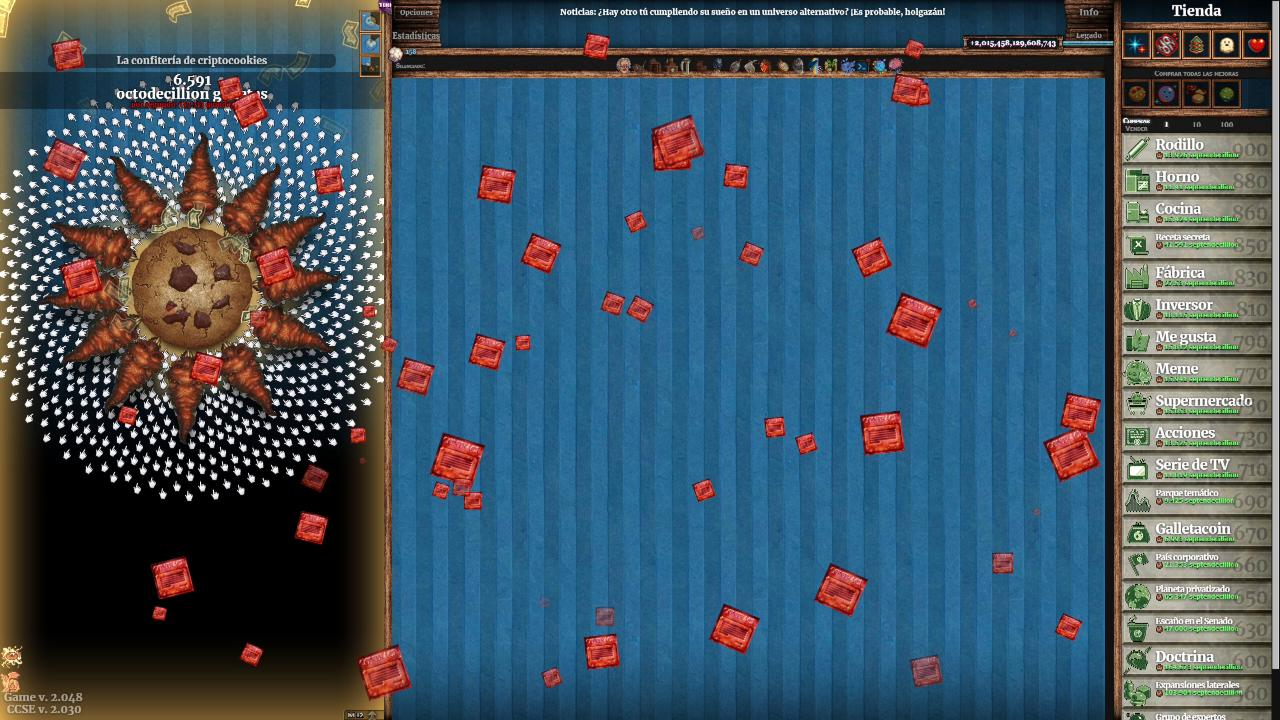RedCartridge: (1042, 425, 1102, 484), (886, 291, 944, 351), (356, 643, 413, 703), (428, 431, 488, 488), (813, 562, 871, 618), (707, 602, 762, 656), (653, 114, 707, 168), (40, 136, 90, 185), (859, 408, 906, 458), (1058, 390, 1103, 435), (152, 556, 195, 602), (59, 256, 103, 300), (851, 235, 894, 280), (255, 245, 298, 288), (520, 233, 563, 276), (651, 129, 692, 173), (476, 164, 517, 206), (396, 357, 437, 397), (582, 632, 622, 672), (468, 332, 507, 373), (231, 90, 270, 130), (50, 35, 87, 74), (189, 350, 226, 388), (908, 651, 944, 690), (293, 510, 331, 546), (890, 72, 925, 109), (313, 164, 345, 196), (300, 461, 330, 495), (720, 161, 753, 191), (1054, 612, 1084, 644), (582, 32, 612, 62), (598, 288, 627, 318), (737, 240, 766, 269), (626, 294, 655, 323), (238, 640, 266, 668), (218, 76, 245, 103), (907, 81, 933, 109), (692, 476, 717, 505), (794, 432, 820, 457), (624, 209, 649, 235), (763, 414, 787, 440), (991, 551, 1015, 576), (540, 666, 564, 690), (116, 404, 139, 427), (904, 36, 926, 60), (463, 490, 485, 511), (452, 477, 474, 498), (595, 606, 616, 628), (432, 481, 450, 501), (150, 604, 169, 622), (381, 335, 399, 354), (350, 427, 368, 445), (516, 333, 532, 351), (690, 225, 706, 242), (362, 304, 376, 319)
